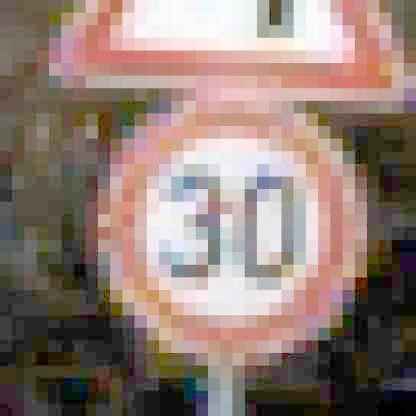Speed Limit -30-: (97, 95, 368, 356)
